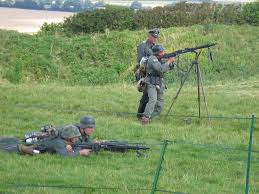gun: (71, 138, 151, 158), (161, 41, 217, 61)
